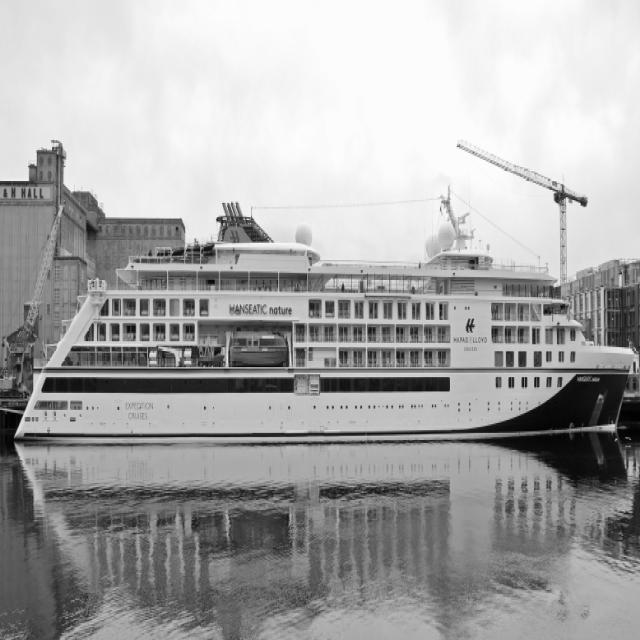cruises: (12, 194, 635, 445)
